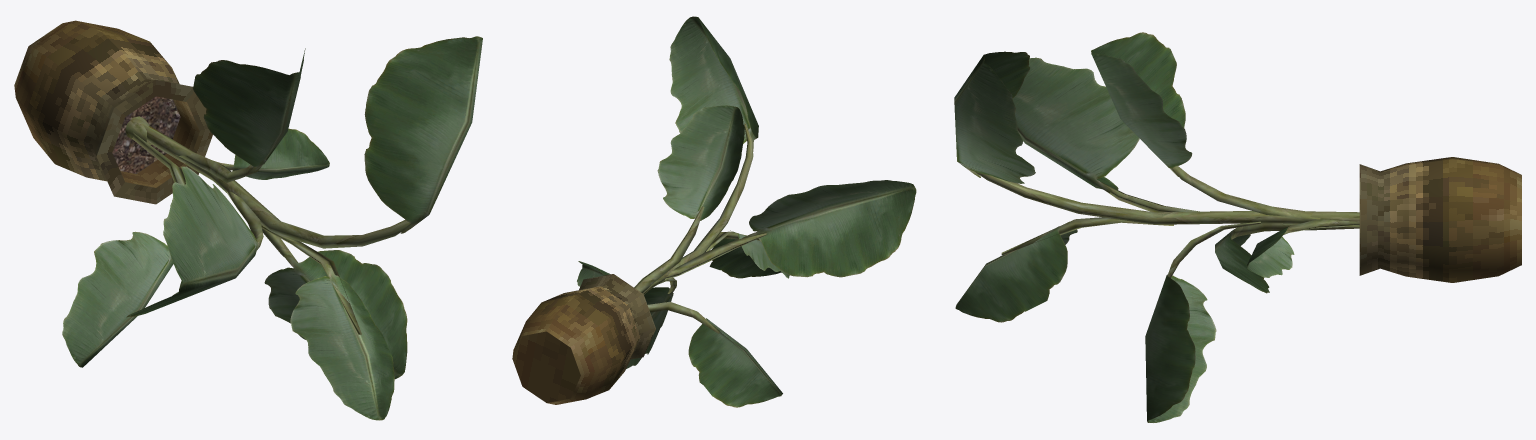
The model's file is nt_2020_greenhouse_plant_01_LOD1.obj.
The picture shows the model from 3 angles, left to right: view 1: azimuth 30°, elevation 25°; view 2: azimuth 150°, elevation 25°; view 3: azimuth 270°, elevation 25°; orthographic projection. The views are drawn at different scales.
Visible parts, largest first — view 1: mtl_potted_plant01, mtl_pb_plant_pot, mtl_flower_pot_dirt; view 2: mtl_potted_plant01, mtl_pb_plant_pot; view 3: mtl_potted_plant01, mtl_pb_plant_pot.
Boxes of the visible parts, x1,y1,x2,y2 form: mtl_potted_plant01: [62, 36, 482, 420]; mtl_pb_plant_pot: [14, 20, 212, 204]; mtl_flower_pot_dirt: [112, 96, 180, 173]; mtl_potted_plant01: [577, 16, 916, 407]; mtl_pb_plant_pot: [512, 274, 655, 404]; mtl_potted_plant01: [954, 32, 1359, 422]; mtl_pb_plant_pot: [1359, 157, 1521, 282].
Size of the model in its own units: 134 by 132 by 182.
